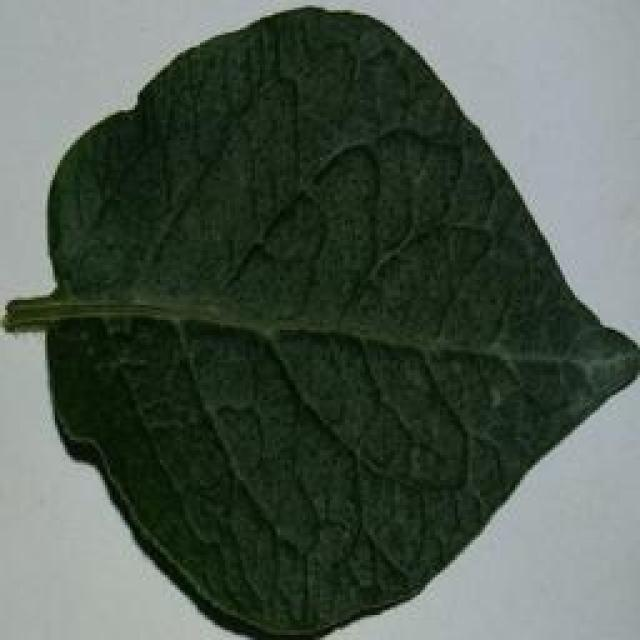Potato_Healthy: (8, 8, 627, 634)
